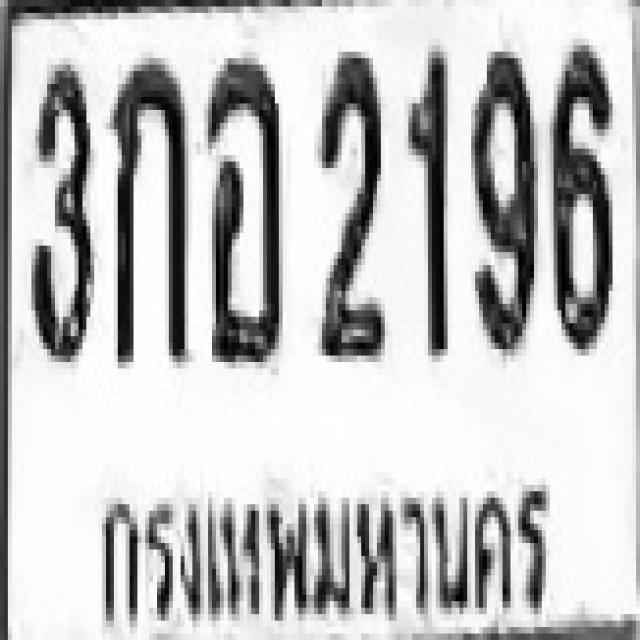1: (404, 45, 448, 349)
10GorGai: (110, 52, 184, 362)
2: (314, 52, 385, 356)
3: (28, 58, 90, 356)
52OrAng: (204, 52, 279, 362)
6: (548, 39, 610, 349)
9: (467, 45, 534, 349)
Bangkok: (82, 463, 569, 640)
